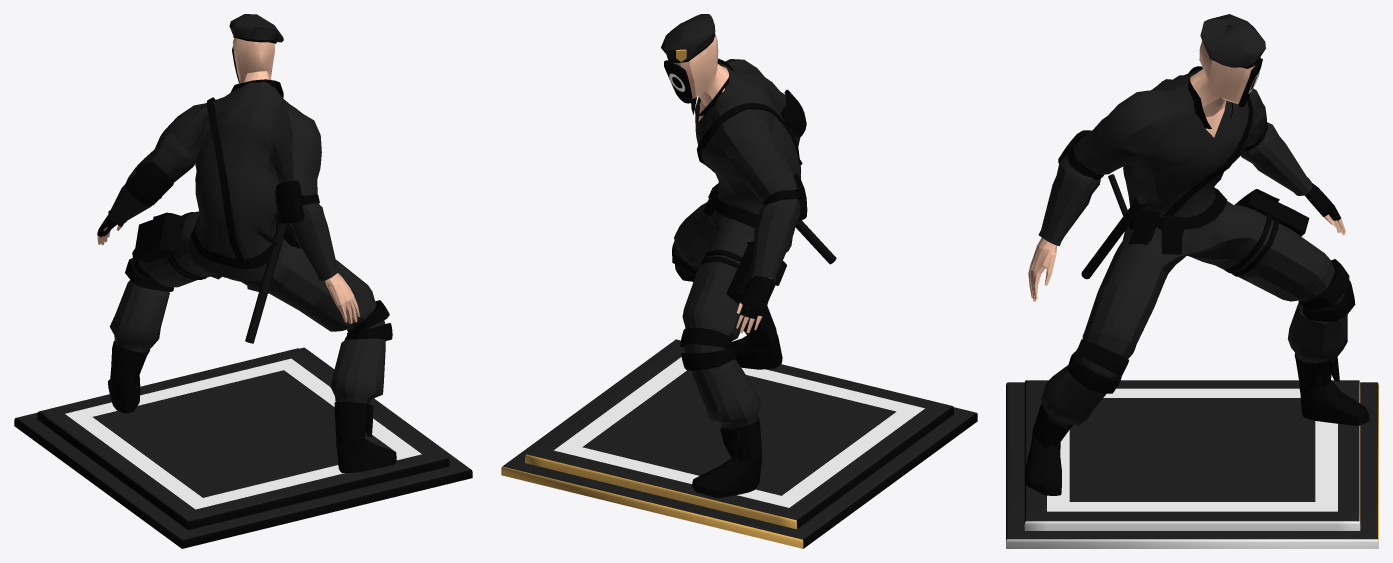
The model's file is testmodel.fbx.
The picture shows the model from 3 angles, left to right: view 1: azimuth 30°, elevation 25°; view 2: azimuth 150°, elevation 25°; view 3: azimuth 270°, elevation 25°; orthographic projection. The views are drawn at different scales.
Parts seen in each view (by area): view 1: Box077; view 2: Box077; view 3: Box077.
Part boxes in pixels (box(x1,y1,x2,y2)): Box077: box(14, 14, 472, 548); Box077: box(501, 14, 977, 548); Box077: box(1006, 14, 1378, 548).
Bounding box in the file's own units: 100 × 137 × 100.
